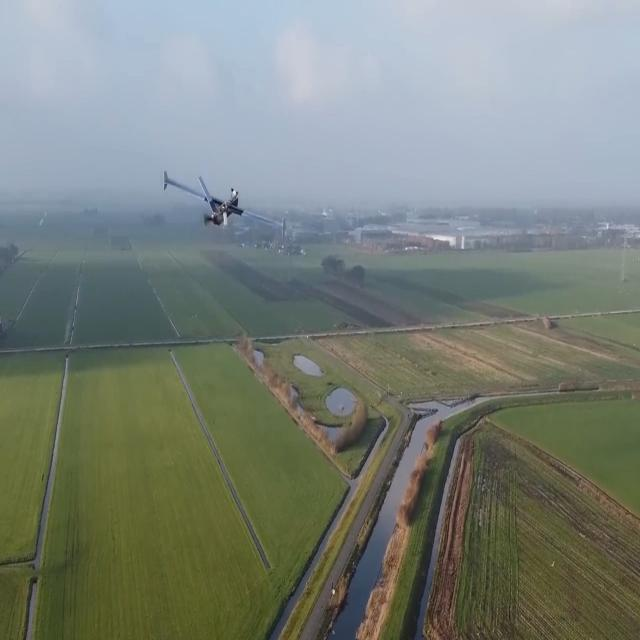iha: (193, 194, 255, 198)
